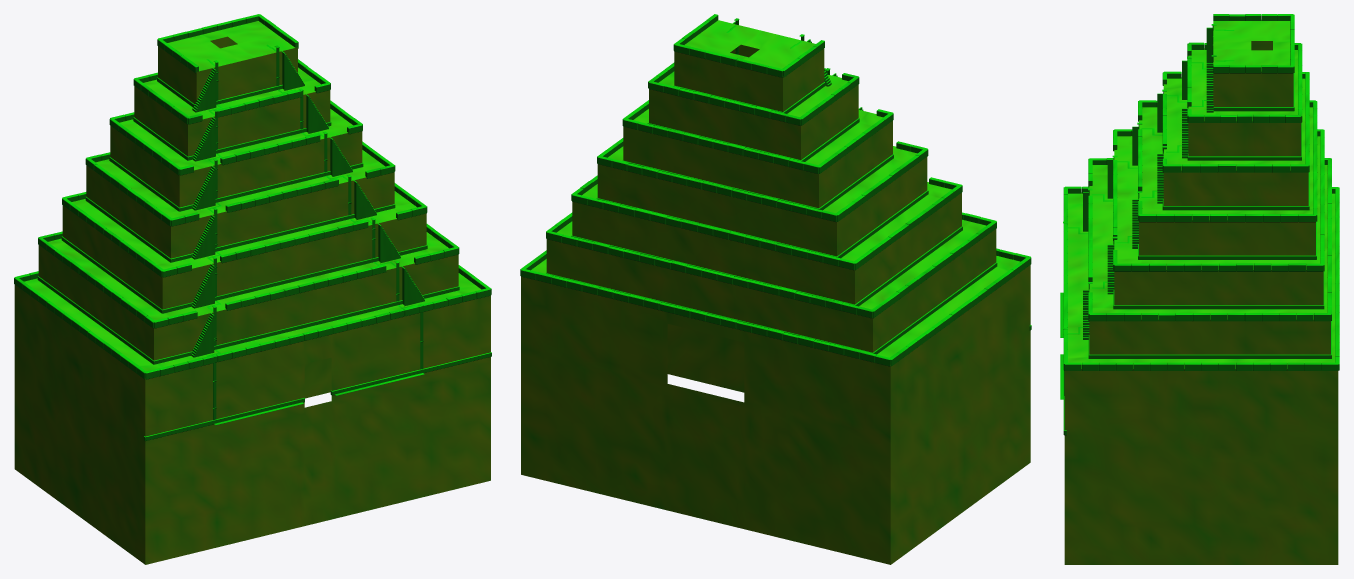
Rendered from ashcrown_tiers.glb.
3 views of the same model, side by side, from view 1: azimuth 30°, elevation 25°; view 2: azimuth 150°, elevation 25°; view 3: azimuth 270°, elevation 25° (orthographic). The views are drawn at different scales.
Visible parts, largest first — view 1: ashcrown_tiers; view 2: ashcrown_tiers; view 3: ashcrown_tiers.
Boxes of the visible parts, x1=… form: ashcrown_tiers: x1=14, y1=14, x2=491, y2=564; ashcrown_tiers: x1=520, y1=14, x2=1031, y2=564; ashcrown_tiers: x1=1060, y1=14, x2=1339, y2=564.
Size of what is drawn, in the model's own units: 58.3 by 66.84 by 38.74.
